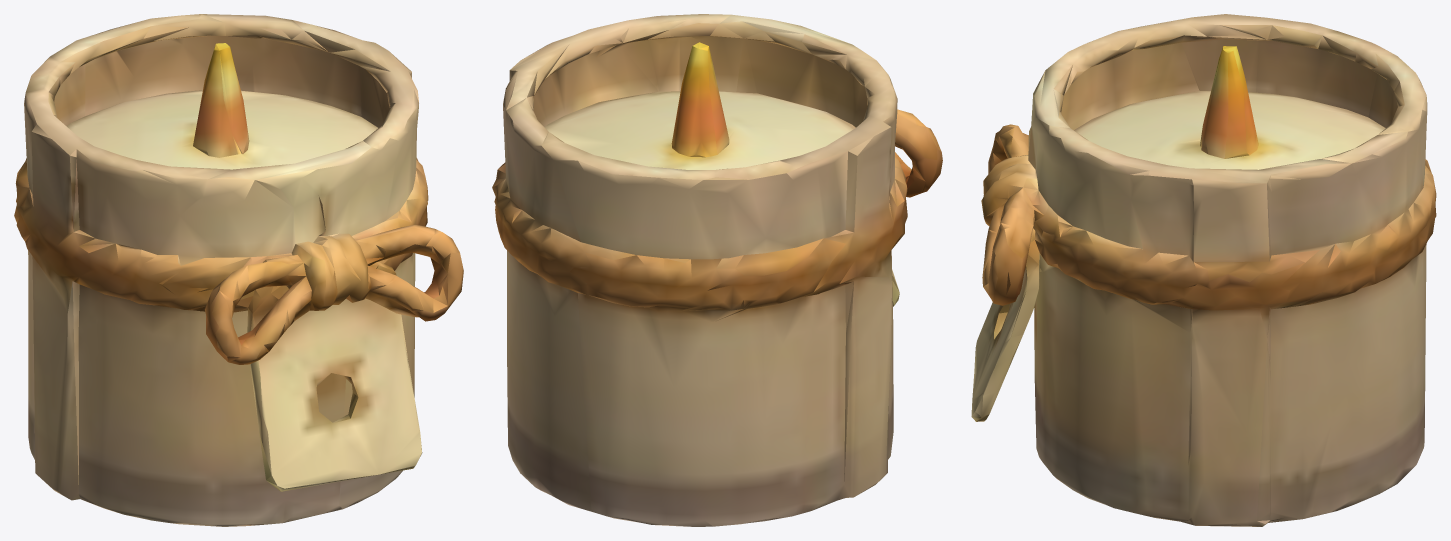
Rendered from deco15.glb.
The picture shows the model from 3 angles, left to right: view 1: azimuth 30°, elevation 25°; view 2: azimuth 150°, elevation 25°; view 3: azimuth 270°, elevation 25°; orthographic projection.
Size of the model in its own units: 0.1401 by 0.15 by 0.1586.
1 material, 1 textured.
